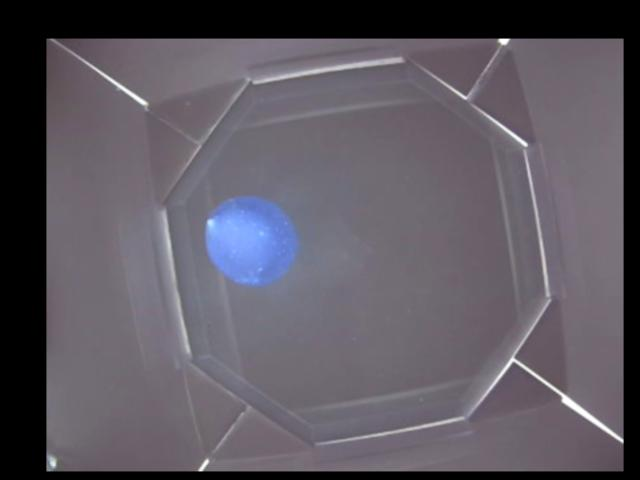Potato: (205, 195, 294, 286)
